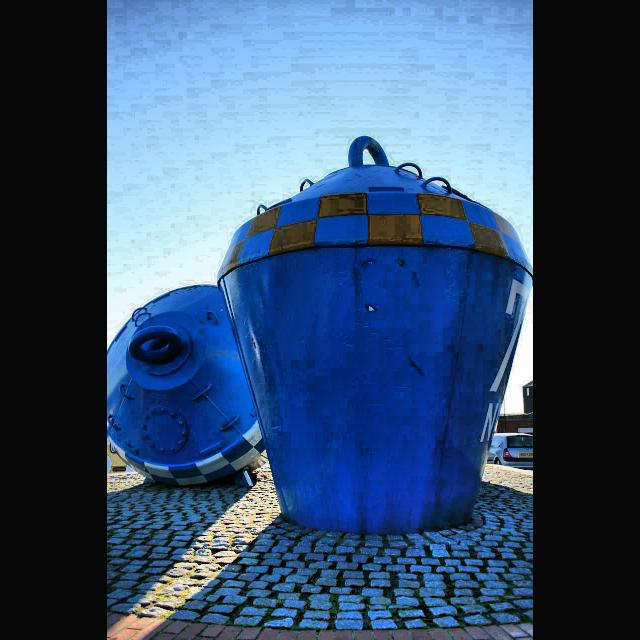buoy: (213, 134, 533, 538), (110, 282, 270, 498)
